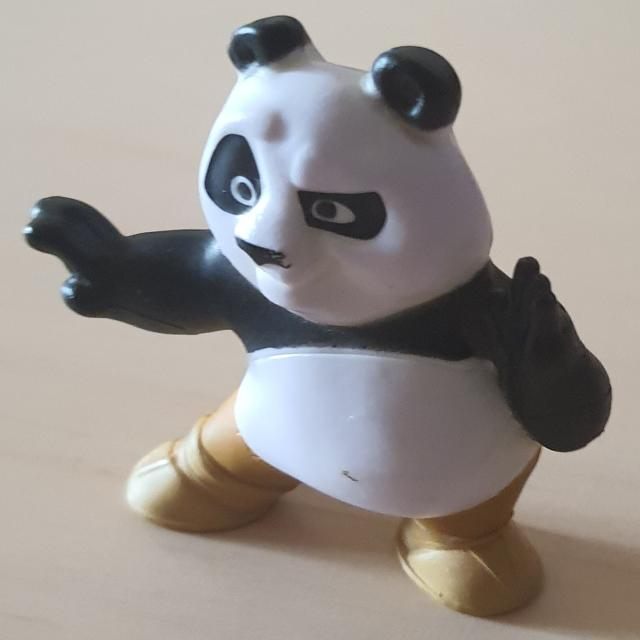Panda: (22, 14, 613, 617)
